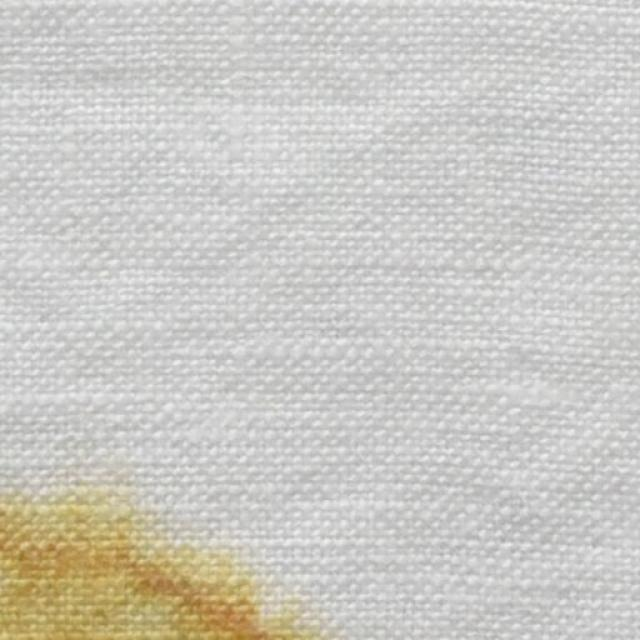Stain: (0, 498, 309, 640)
